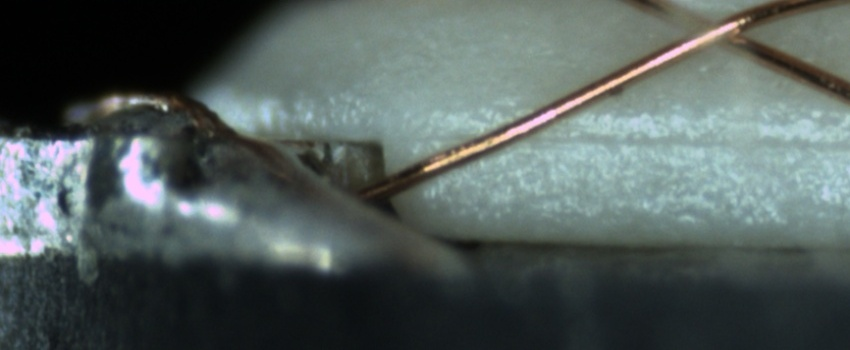CL: (655, 3, 773, 57)
DL: (422, 104, 850, 174)
TE: (72, 83, 224, 136)
